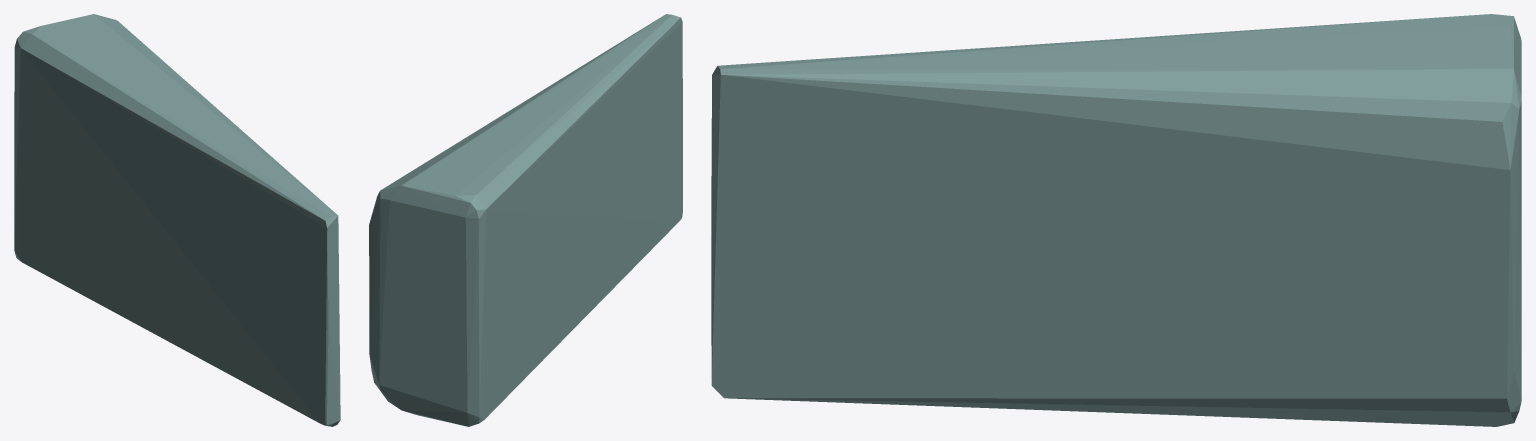
Rendered from digitalSystem_infoKiosk_vertical_a01.glb.
The picture shows the model from 3 angles, left to right: view 1: azimuth 30°, elevation 25°; view 2: azimuth 150°, elevation 25°; view 3: azimuth 270°, elevation 25°; orthographic projection. The views are drawn at different scales.
Visible parts, largest first — view 1: geometry_0; view 2: geometry_0; view 3: geometry_0.
Part boxes in pixels (<box>): geometry_0: <box>14,14,340,426</box>; geometry_0: <box>369,14,682,426</box>; geometry_0: <box>711,14,1521,426</box>.
Size of the model in its own units: 0.1202 by 0.235 by 0.48.
